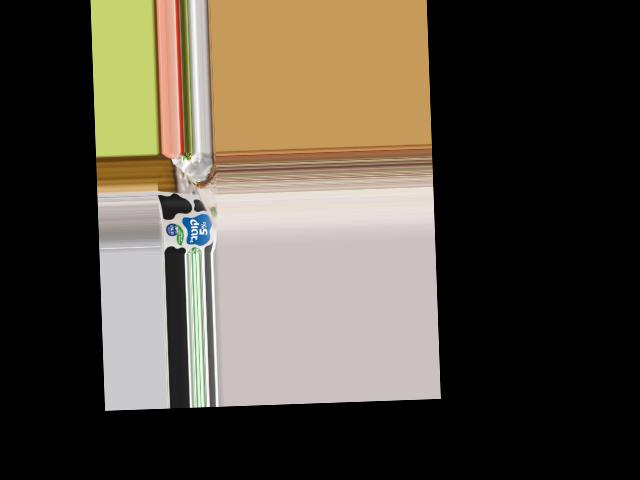cotage: (158, 192, 216, 254)
